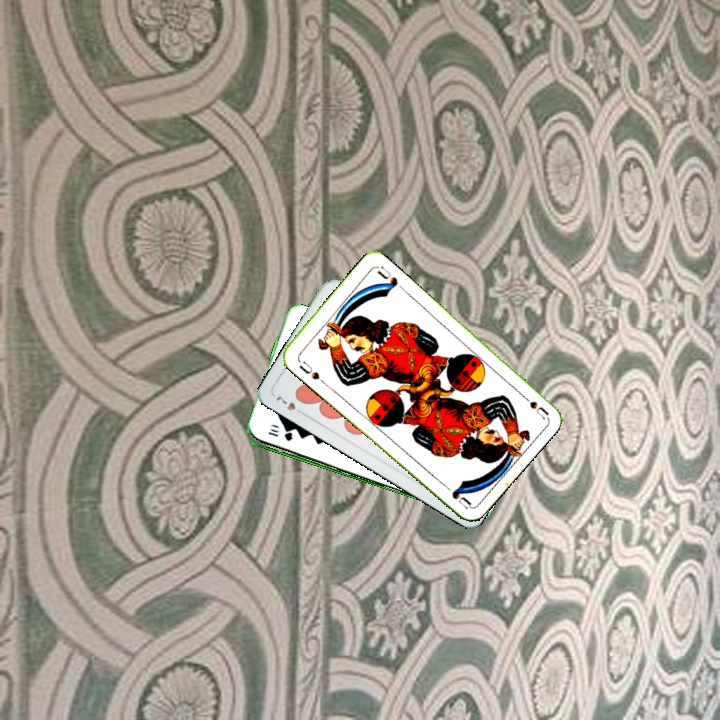G10: (264, 428, 295, 444)
H7: (272, 392, 308, 418)
SU: (515, 388, 550, 421), (293, 355, 327, 386)
